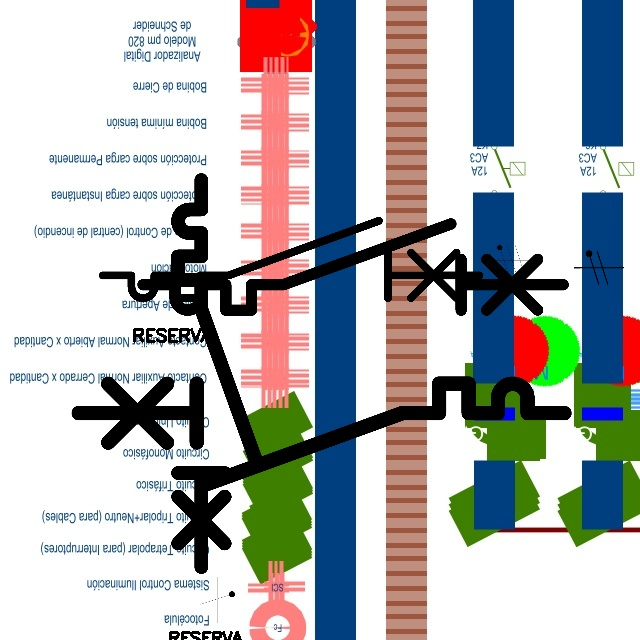interruptor_termomagnetico: (66, 371, 577, 496), (132, 213, 574, 321), (168, 170, 267, 577), (93, 211, 489, 308)
